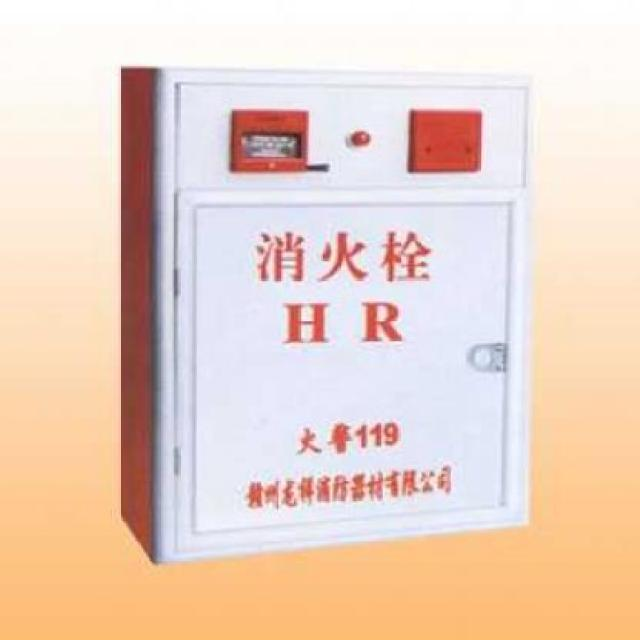firehydrant: (112, 57, 543, 571)
